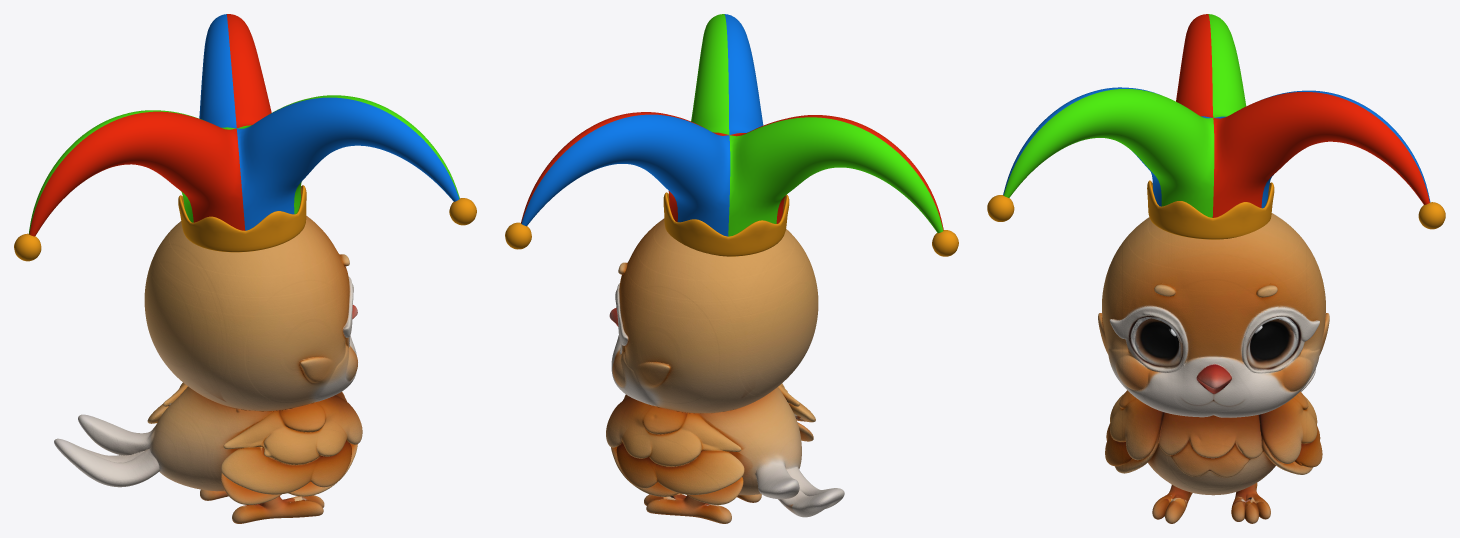
File: birdy_clown_hat.glb
3 renders of one model, left to right at view 1: azimuth 30°, elevation 25°; view 2: azimuth 150°, elevation 25°; view 3: azimuth 270°, elevation 25°, orthographic. The views are drawn at different scales.
Visible parts, largest first — view 1: NurbsPath.002_2, tripo_part_10_Clone, tripo_part_8_Clone, tripo_part_3_Clone, tripo_part_1_Clone, tripo_part_13_Clone, NurbsPath.001_3, tripo_part_6_Clone, tripo_part_0_Clone, Sphere.002_6, Sphere_4; view 2: NurbsPath.002_2, tripo_part_10_Clone, tripo_part_15_Clone, tripo_part_8_Clone, tripo_part_16_Clone, NurbsPath.001_3, tripo_part_13_Clone, tripo_part_11_Clone, tripo_part_18_Clone, Sphere.002_6, Sphere.001_5; view 3: NurbsPath.002_2, tripo_part_10_Clone, tripo_part_7_Clone, NurbsPath.001_3, tripo_part_14_Clone, tripo_part_4_Clone, tripo_part_15_Clone, tripo_part_8_Clone, tripo_part_3_Clone, tripo_part_11_Clone, tripo_part_16_Clone, tripo_part_6_Clone (+6 smaller).
Boxes of the visible parts, x1,y1,x2,y2 form: NurbsPath.002_2: (28,14,459,236); tripo_part_10_Clone: (144,216,356,411); tripo_part_8_Clone: (146,386,272,491); tripo_part_3_Clone: (223,395,362,464); tripo_part_1_Clone: (221,441,357,504); tripo_part_13_Clone: (54,414,159,487); NurbsPath.001_3: (178,185,306,252); tripo_part_6_Clone: (232,495,324,523); tripo_part_0_Clone: (299,356,333,383); Sphere.002_6: (14,233,41,261); Sphere_4: (449,198,476,225); NurbsPath.002_2: (521,14,943,236); tripo_part_10_Clone: (611,218,818,413); tripo_part_15_Clone: (606,397,741,466); tripo_part_8_Clone: (702,387,801,495); tripo_part_16_Clone: (611,442,744,504); NurbsPath.001_3: (663,192,789,256); tripo_part_13_Clone: (755,454,844,517); tripo_part_11_Clone: (644,493,731,523); tripo_part_18_Clone: (633,359,670,388); Sphere.002_6: (932,230,958,256); Sphere.001_5: (505,222,531,249); NurbsPath.002_2: (1003,14,1430,217); tripo_part_10_Clone: (1102,213,1325,417); tripo_part_7_Clone: (1156,411,1262,477); NurbsPath.001_3: (1147,180,1274,239); tripo_part_14_Clone: (1241,306,1319,373); tripo_part_4_Clone: (1109,304,1188,372); tripo_part_15_Clone: (1258,391,1317,463); tripo_part_8_Clone: (1147,445,1275,495); tripo_part_3_Clone: (1110,390,1162,460); tripo_part_11_Clone: (1231,483,1270,523); tripo_part_16_Clone: (1260,426,1322,474); tripo_part_6_Clone: (1152,484,1192,523).
Size of the model in its own units: 1.25 by 1.46 by 1.41.
Materials: 5 (1 with a texture image).
